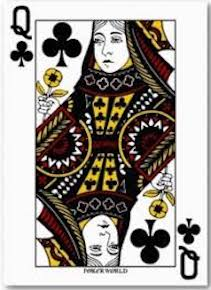QueenOfClubs: (4, 2, 207, 285)
